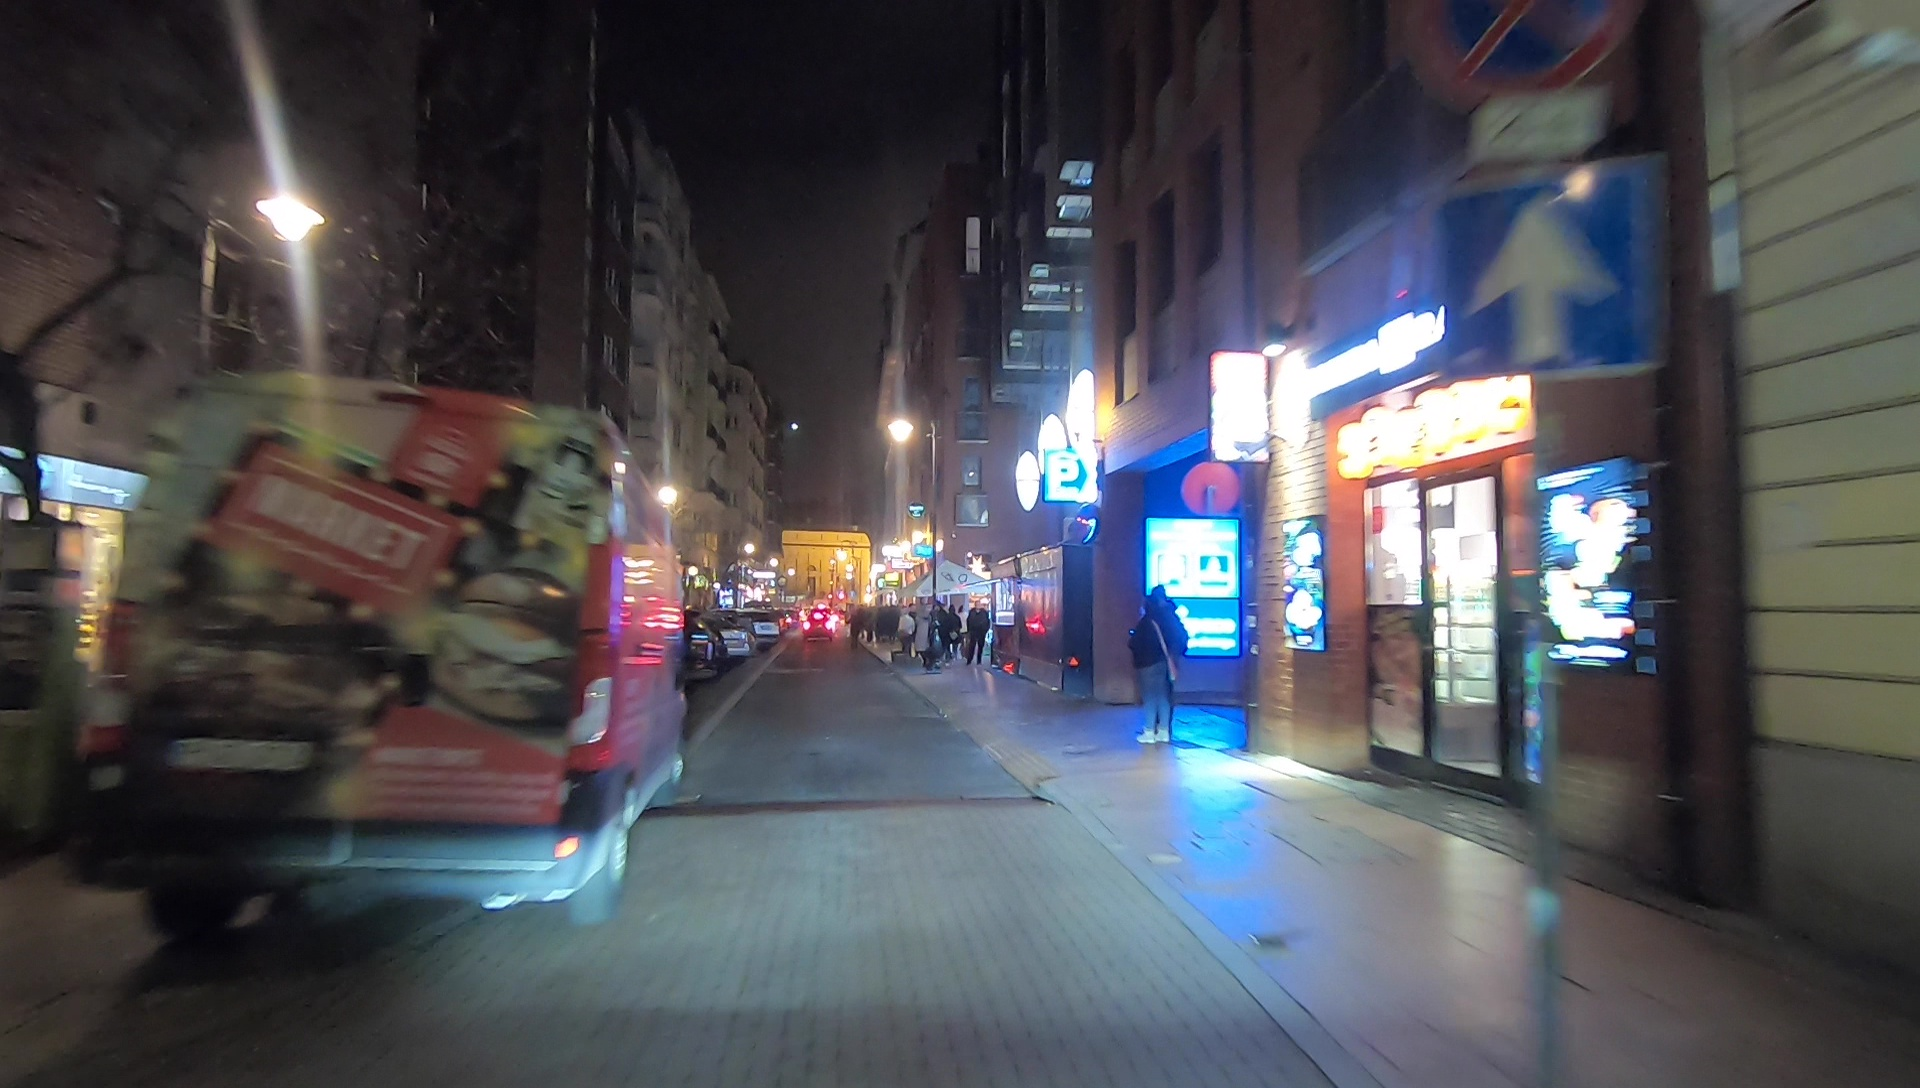person: (1138, 587, 1186, 754), (897, 609, 919, 665), (942, 604, 962, 660), (969, 601, 987, 665)
